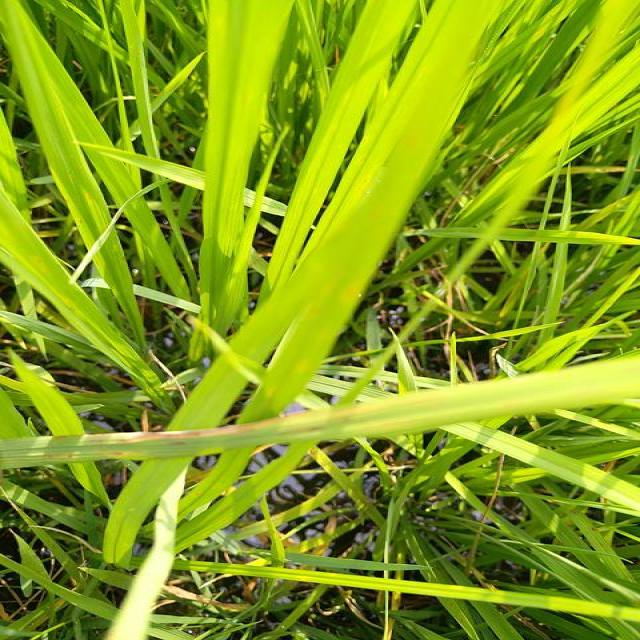Leaf Streak: (43, 409, 329, 459)
